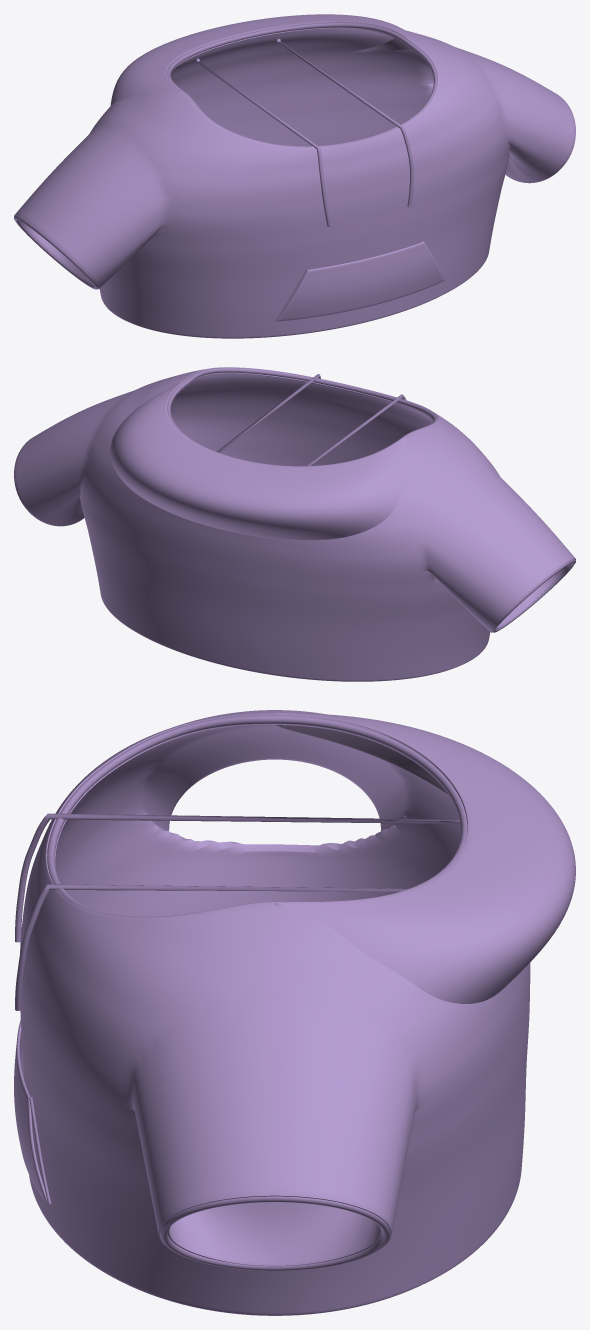
Rendered from Masculine-sweatshirt-top.glb.
3 views of the same model, one above another, from view 1: azimuth 30°, elevation 25°; view 2: azimuth 150°, elevation 25°; view 3: azimuth 270°, elevation 25° (orthographic). The views are drawn at different scales.
Parts seen in each view (by area): view 1: Clothing / sweatshirt, Hoodie / kangaroo pocket, Hoodie / resting hood, Neckline / fitted crew export, Hoodie / drawcord 1 export, Hoodie / drawcord -1 export, Sleeve / soft cuff -1 export; view 2: Clothing / sweatshirt, Hoodie / resting hood, Neckline / fitted crew export, Sleeve / soft cuff -1 export, Hoodie / drawcord 1 export, Hoodie / drawcord -1 export; view 3: Clothing / sweatshirt, Hoodie / resting hood, Neckline / fitted crew export, Hoodie / drawcord -1 export, Sleeve / soft cuff 1 export, Hoodie / drawcord 1 export, Hoodie / kangaroo pocket.
Part boxes in pixels (box(x1,y1,x2,y2)): Clothing / sweatshirt: box(14, 23, 575, 337); Hoodie / kangaroo pocket: box(277, 241, 444, 321); Hoodie / resting hood: box(110, 14, 412, 105); Neckline / fitted crew export: box(167, 22, 437, 147); Hoodie / drawcord 1 export: box(276, 38, 413, 206); Hoodie / drawcord -1 export: box(195, 58, 330, 226); Sleeve / soft cuff -1 export: box(14, 216, 98, 289); Clothing / sweatshirt: box(14, 367, 575, 681); Hoodie / resting hood: box(110, 381, 408, 540); Neckline / fitted crew export: box(167, 367, 437, 466); Sleeve / soft cuff -1 export: box(491, 559, 575, 632); Hoodie / drawcord 1 export: box(216, 374, 320, 452); Hoodie / drawcord -1 export: box(306, 394, 406, 466); Clothing / sweatshirt: box(20, 710, 530, 1315); Hoodie / resting hood: box(274, 713, 575, 1003); Neckline / fitted crew export: box(47, 715, 467, 917); Hoodie / drawcord -1 export: box(15, 813, 460, 942); Sleeve / soft cuff 1 export: box(160, 1196, 389, 1270); Hoodie / drawcord 1 export: box(15, 884, 408, 1010); Hoodie / kangaroo pocket: box(14, 1020, 47, 1203).
Size of the model in its own units: 0.9796 by 0.3643 by 0.5202.
